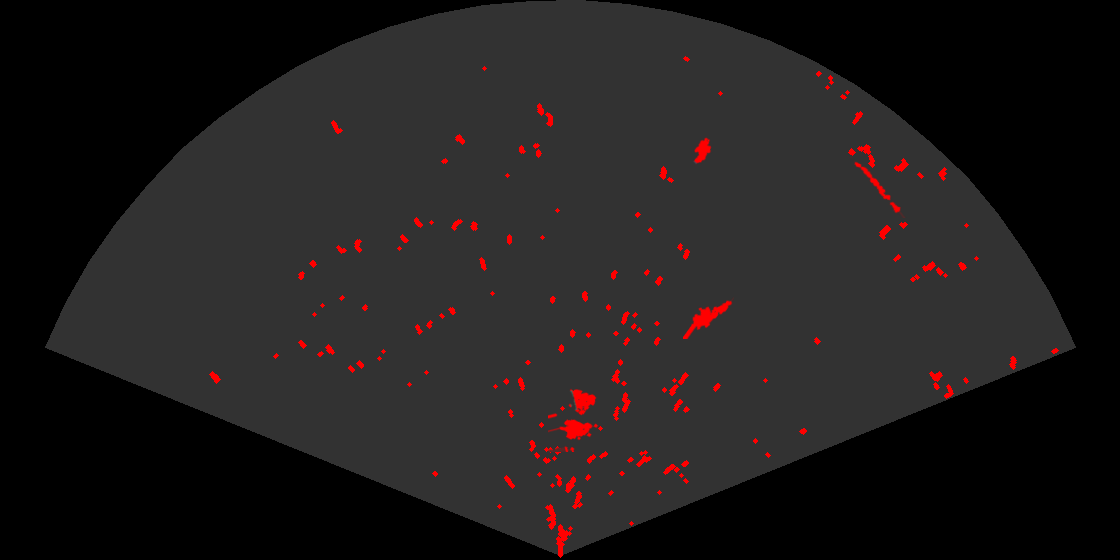AUV: (692, 136, 713, 165)
cage: (548, 387, 600, 452)
chain: (850, 154, 907, 218)
frogman: (683, 296, 734, 339)
